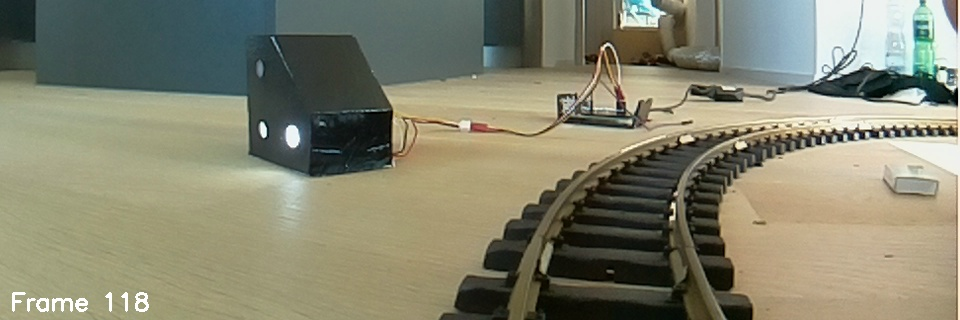Halt: (243, 32, 397, 184)
